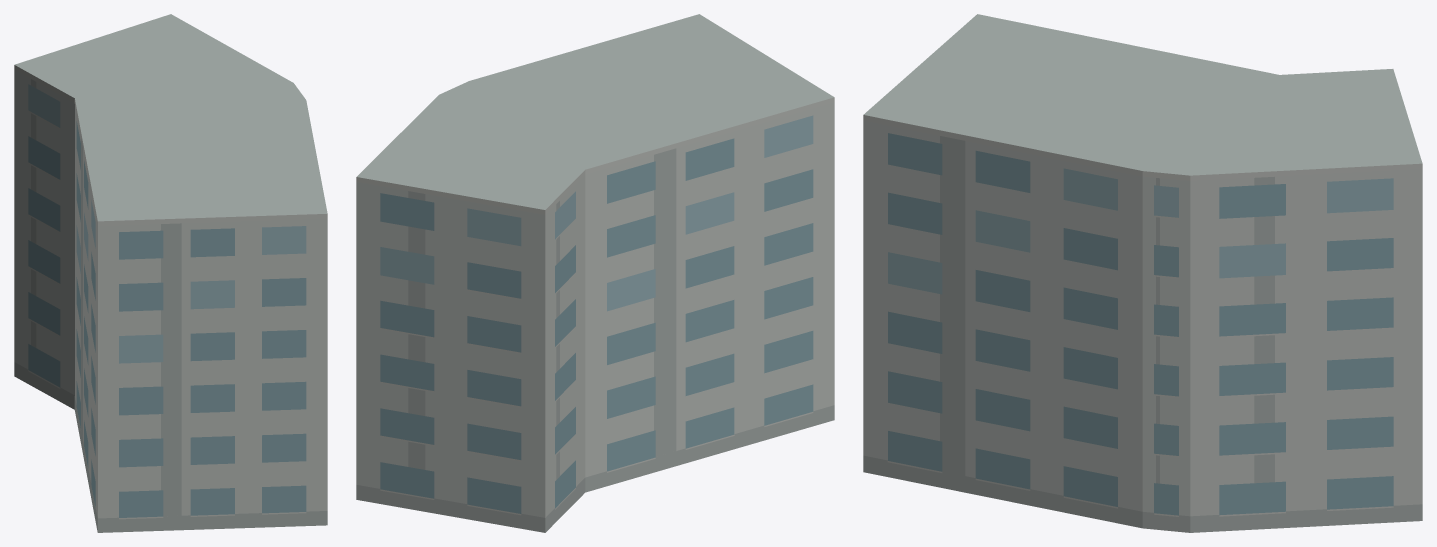
File: survey-upis-33013881.glb
3 views of the same model, side by side, from view 1: azimuth 30°, elevation 25°; view 2: azimuth 150°, elevation 25°; view 3: azimuth 270°, elevation 25° (orthographic). The views are drawn at different scales.
Parts seen in each view (by area): view 1: survey-upis-33013881.tmp; view 2: survey-upis-33013881.tmp; view 3: survey-upis-33013881.tmp.
Boxes of the visible parts, <box> form: survey-upis-33013881.tmp: <box>14,14,327,532</box>; survey-upis-33013881.tmp: <box>356,14,834,532</box>; survey-upis-33013881.tmp: <box>863,14,1422,532</box>.
Bounding box in the file's own units: 15.24 × 15.7 × 22.28.
